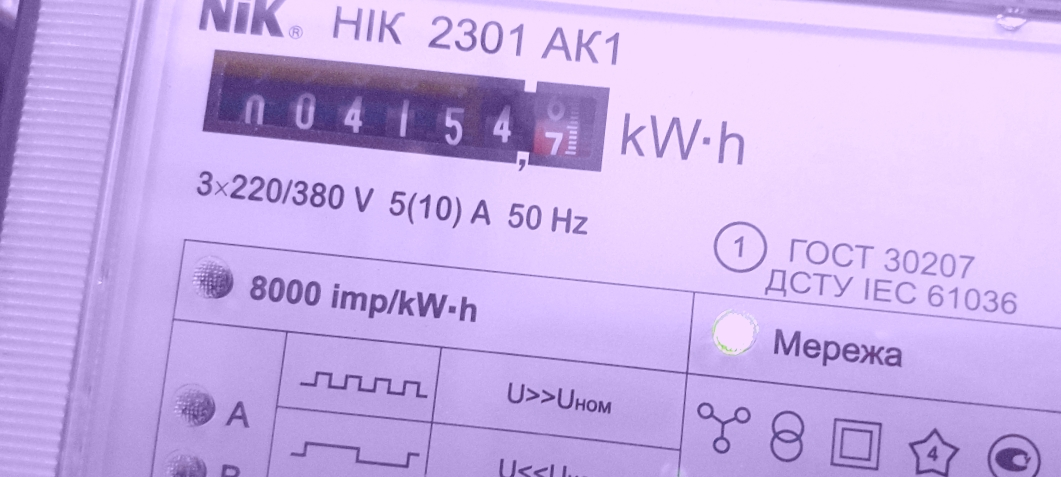0: (290, 88, 317, 132), (240, 89, 267, 125)
1: (394, 96, 412, 139)
4: (339, 92, 366, 135), (489, 99, 514, 145)
5: (439, 101, 467, 147)
6: (543, 91, 568, 122)
7: (539, 127, 563, 157)
screen: (184, 28, 628, 190)
